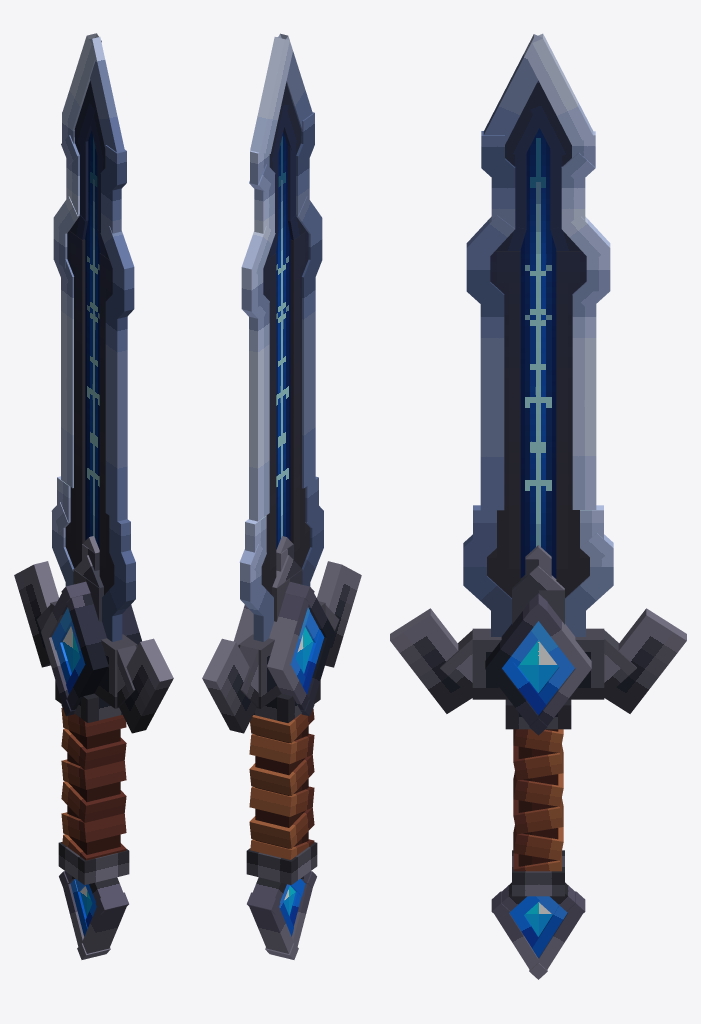
The model's file is awakened_blade.glb.
The picture shows the model from 3 angles, left to right: view 1: azimuth 30°, elevation 25°; view 2: azimuth 150°, elevation 25°; view 3: azimuth 270°, elevation 25°; orthographic projection.
Visible parts, largest first — view 1: cube (×48); view 2: cube (×50); view 3: cube (×49).
Part boxes in pixels (box(x1,y1,x2,y2)): cube (×48): box(14, 33, 173, 953); cube (×50): box(202, 33, 361, 953); cube (×49): box(390, 33, 686, 969).
Size of the model in its own units: 0.1562 by 2.59 by 0.7034.
1 material, 1 textured.
